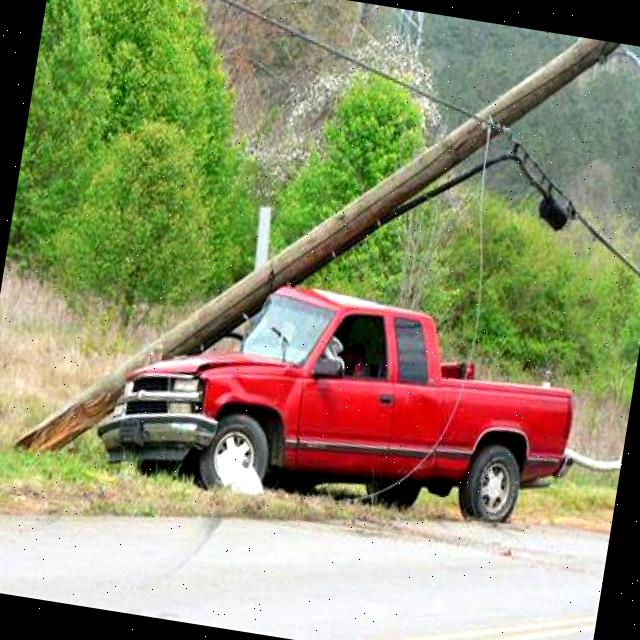Broken Pole: (5, 36, 626, 460)
